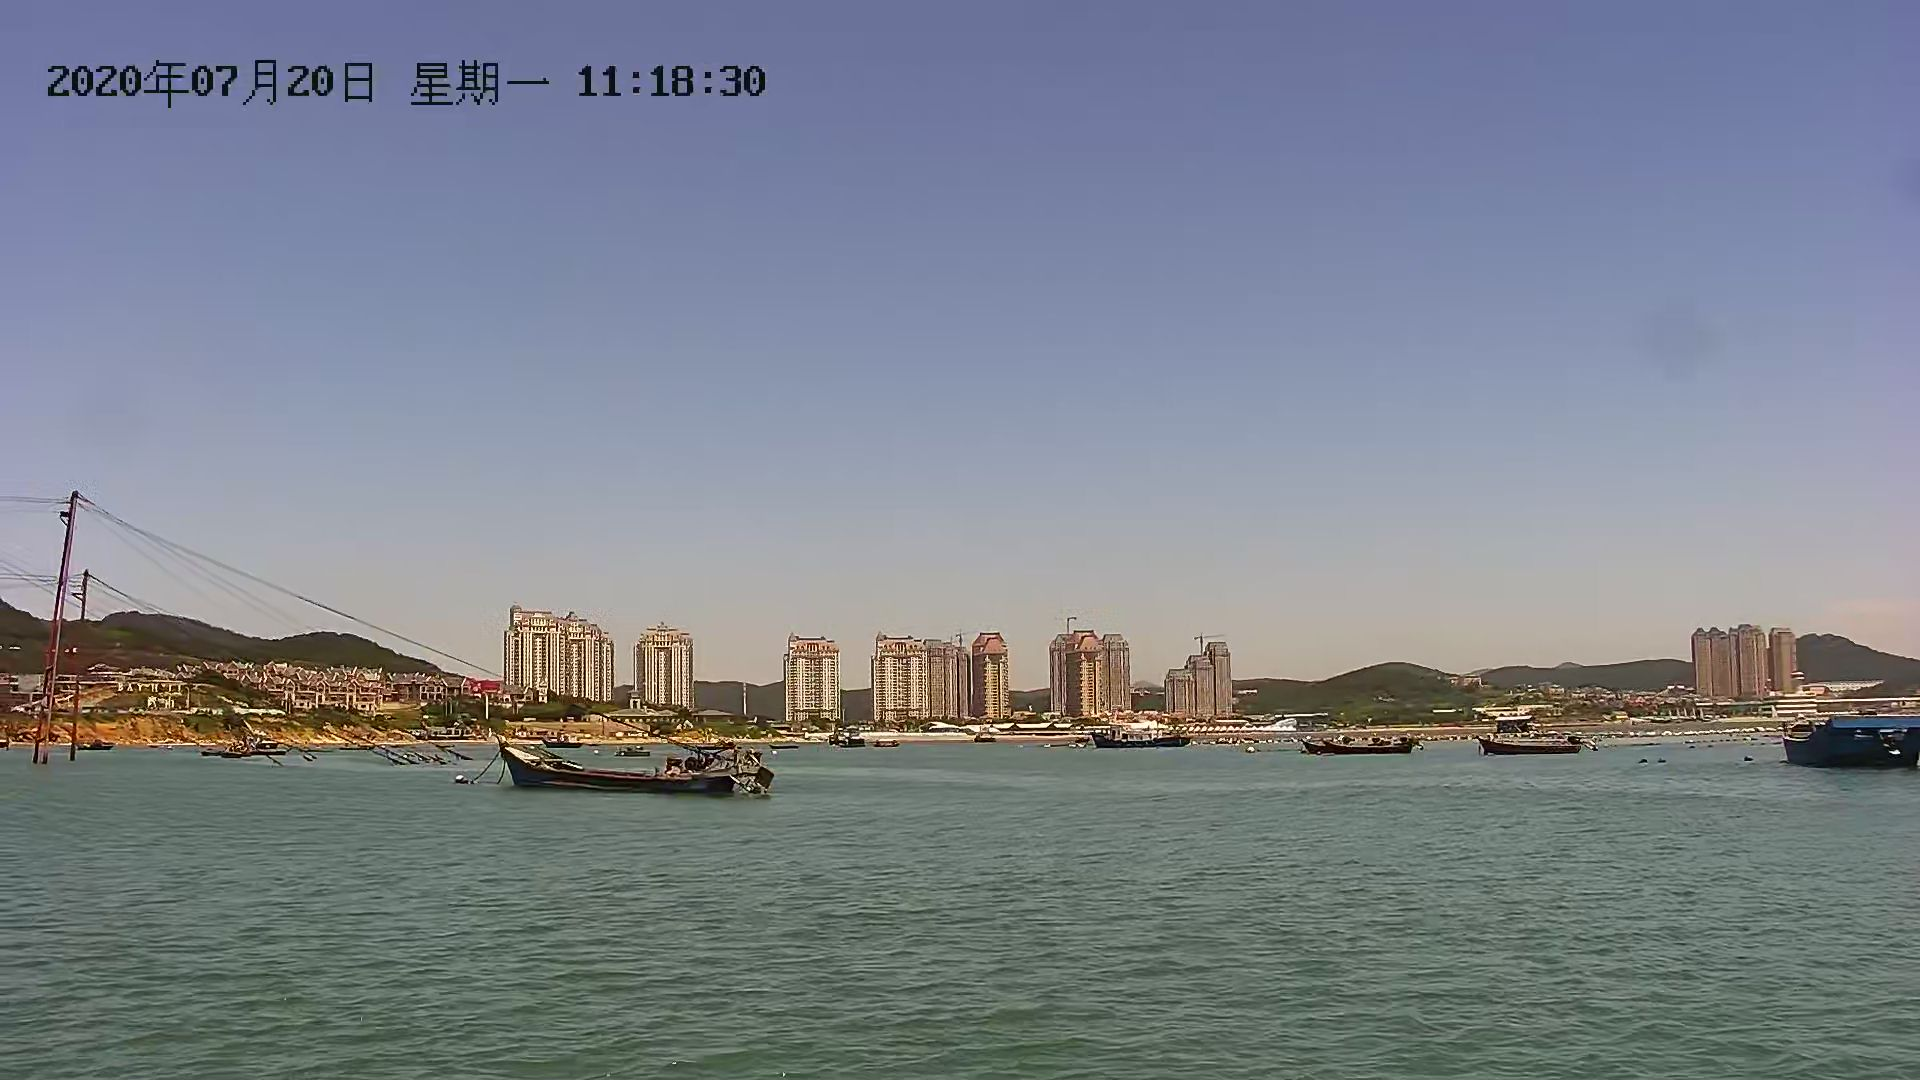boat: (497, 719, 787, 808), (1774, 690, 1920, 764), (1484, 725, 1600, 760), (1081, 727, 1193, 758), (1296, 731, 1425, 756)
mast: (36, 473, 95, 775)
